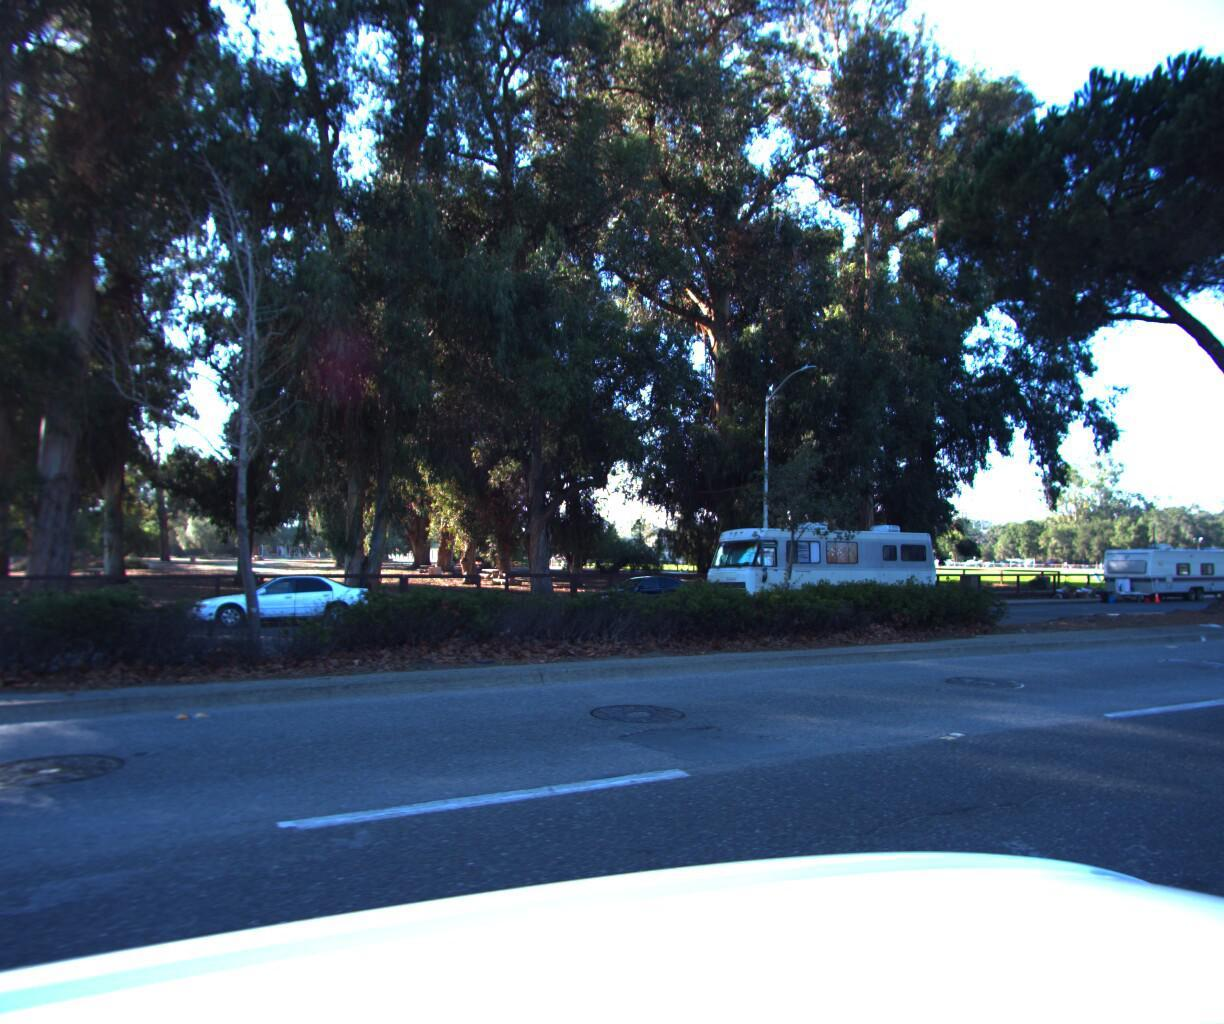car: (167, 573, 382, 639), (569, 575, 718, 622), (1208, 573, 1224, 599)
other_vehicle: (691, 513, 942, 614), (1085, 541, 1224, 602)
